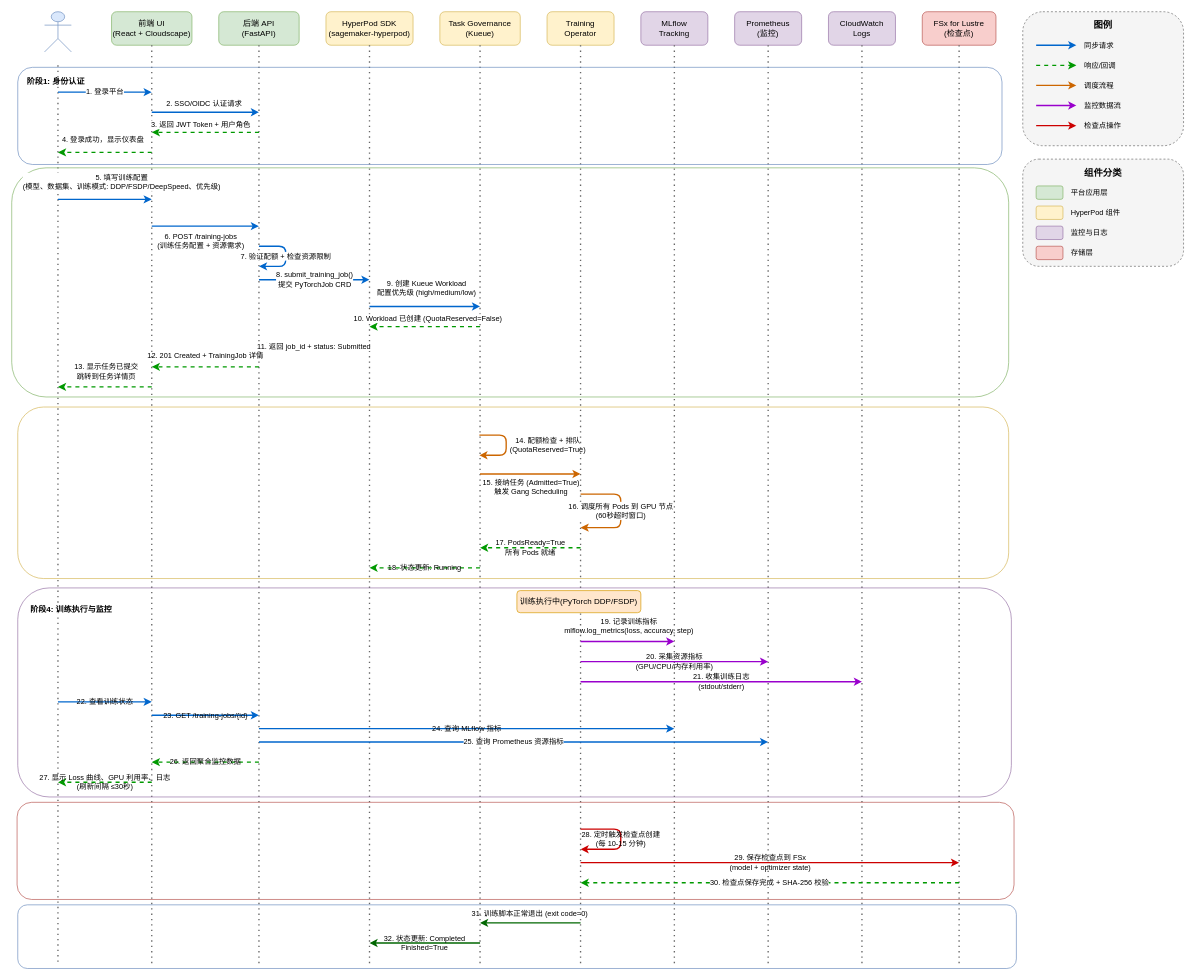
This 1195x980 diagram has some shape labels left out. Here are the shapes that lost their labels. From the top down, the box of each, then its label:
(44, 11, 71, 52): 算法工程师
(11, 167, 1009, 397): 阶段2: 提交训练任务
(17, 406, 1009, 579): 阶段3: Gang Scheduling
(16, 802, 1014, 899): 阶段5: 自动检查点
(17, 904, 1016, 968): 阶段6: 训练完成
